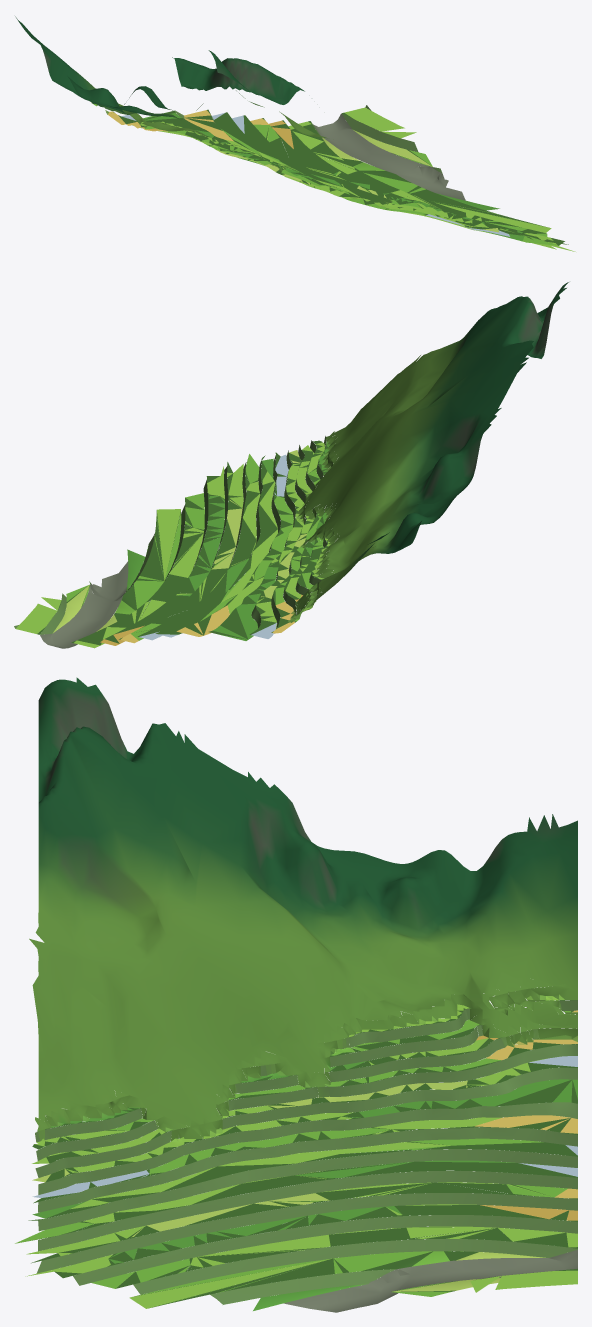
File: payo_land_x0_y3_lod1.glb
The picture shows the model from 3 angles, top to bottom: view 1: azimuth 30°, elevation 25°; view 2: azimuth 150°, elevation 25°; view 3: azimuth 270°, elevation 25°; orthographic projection. The views are drawn at different scales.
Visible parts, largest first — view 1: payo_land_x0_y3; view 2: payo_land_x0_y3; view 3: payo_land_x0_y3.
Part boxes in pixels (<box>): payo_land_x0_y3: <box>15,16,575,251</box>; payo_land_x0_y3: <box>14,282,568,648</box>; payo_land_x0_y3: <box>15,677,577,1312</box>.
Size of the model in its own units: 275 by 210 by 267.
